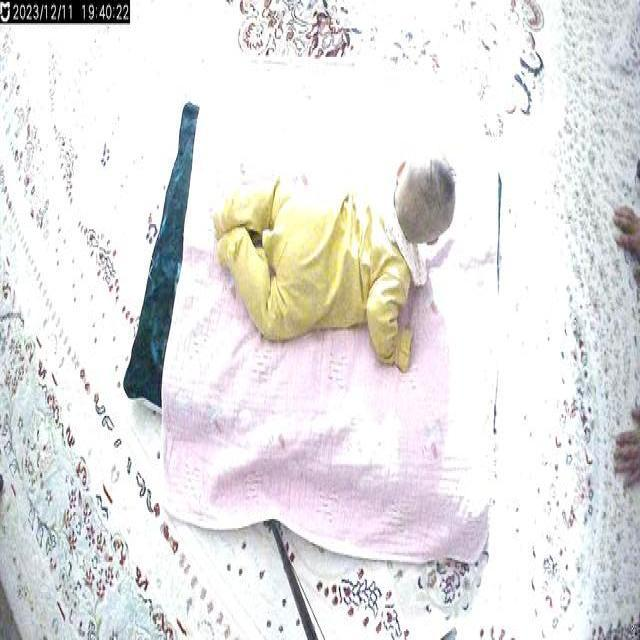baby: (212, 134, 476, 388)
